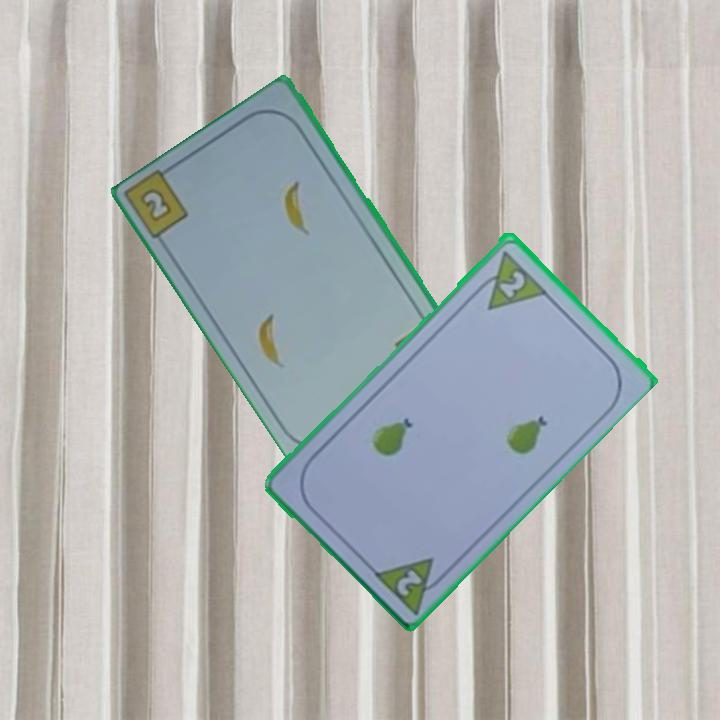2b: (123, 161, 193, 244)
2p: (368, 552, 452, 616), (495, 266, 528, 300)
